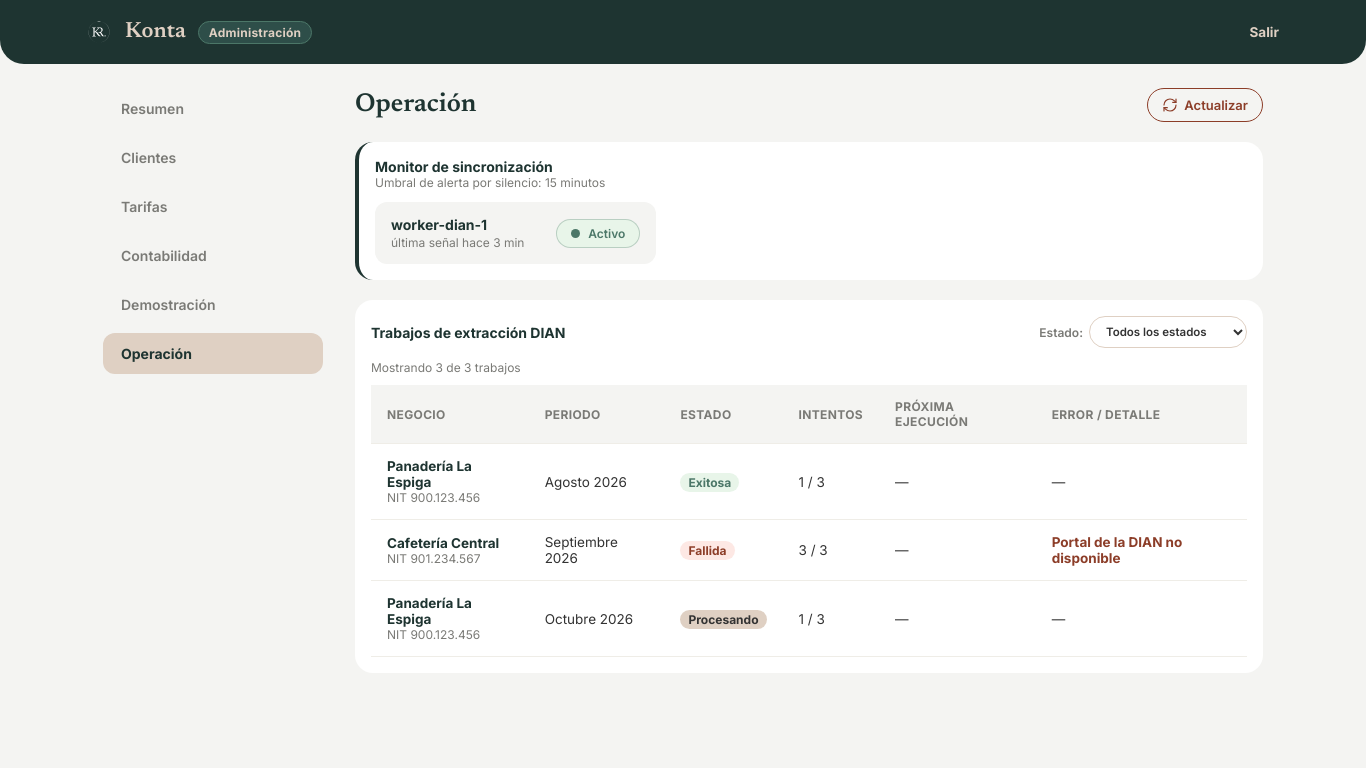
Scenario: Story 8.7: Panel admin — documentos y operación DIAN › Pantalla Operación (/admin/operacion) - AC #3 y #4 › filtrar por estado actualiza la consulta de jobs con status=FAILED
Check: the heading "Operación" is shown, box [355,92,476,118]
Note: El filtro aparece cuando terminan de cargar los trabajos, después del título.
Select "Fallida" in the dropdown named "Filtrar por estado": x=1168, y=332 [1089,316,1247,348]
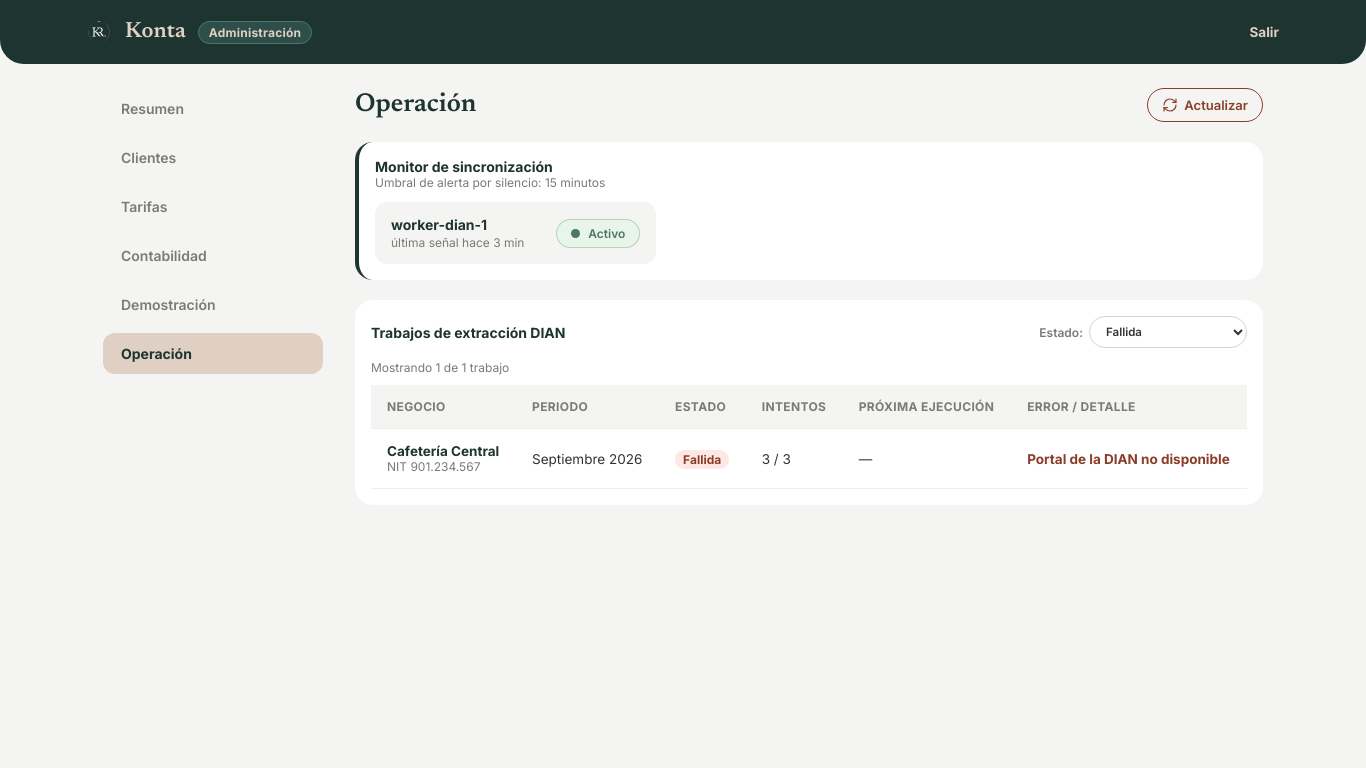
Check: the text "Mostrando 1 de 1 trabajo" is shown, box [371,360,509,375]
